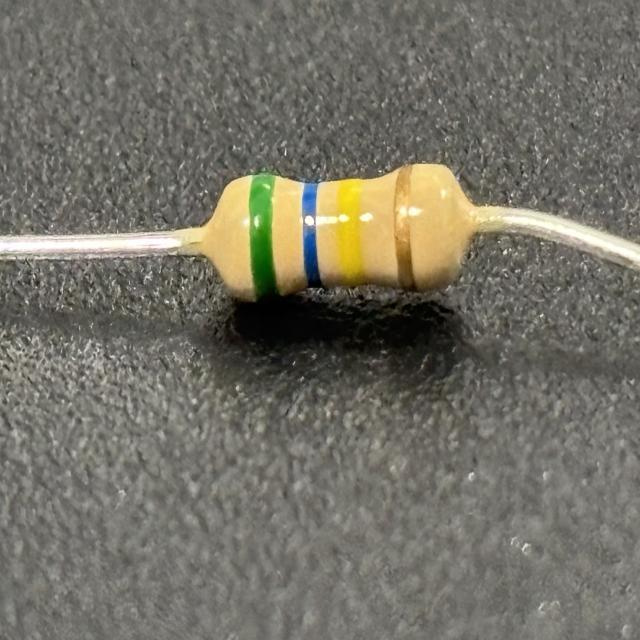resistor: (218, 156, 469, 310)
